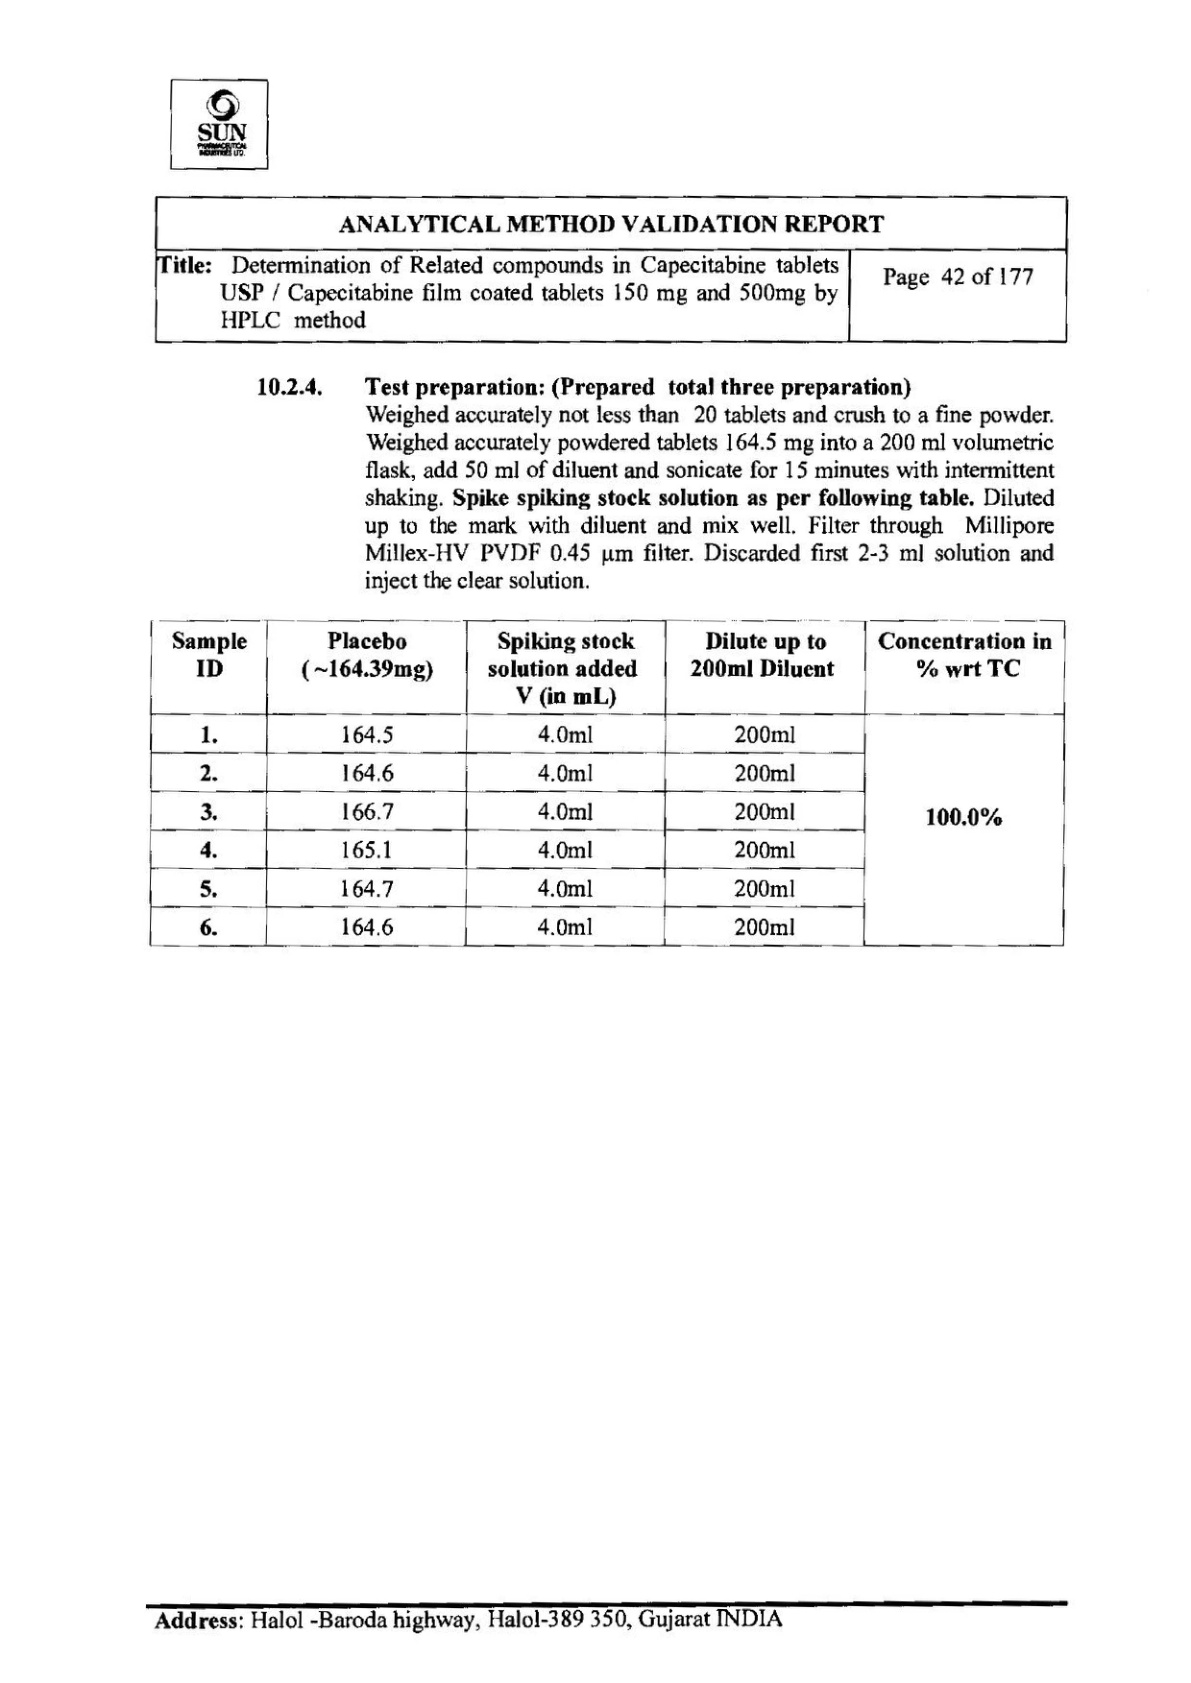merged_cells: (147, 617, 1066, 948), (153, 195, 1069, 344)
